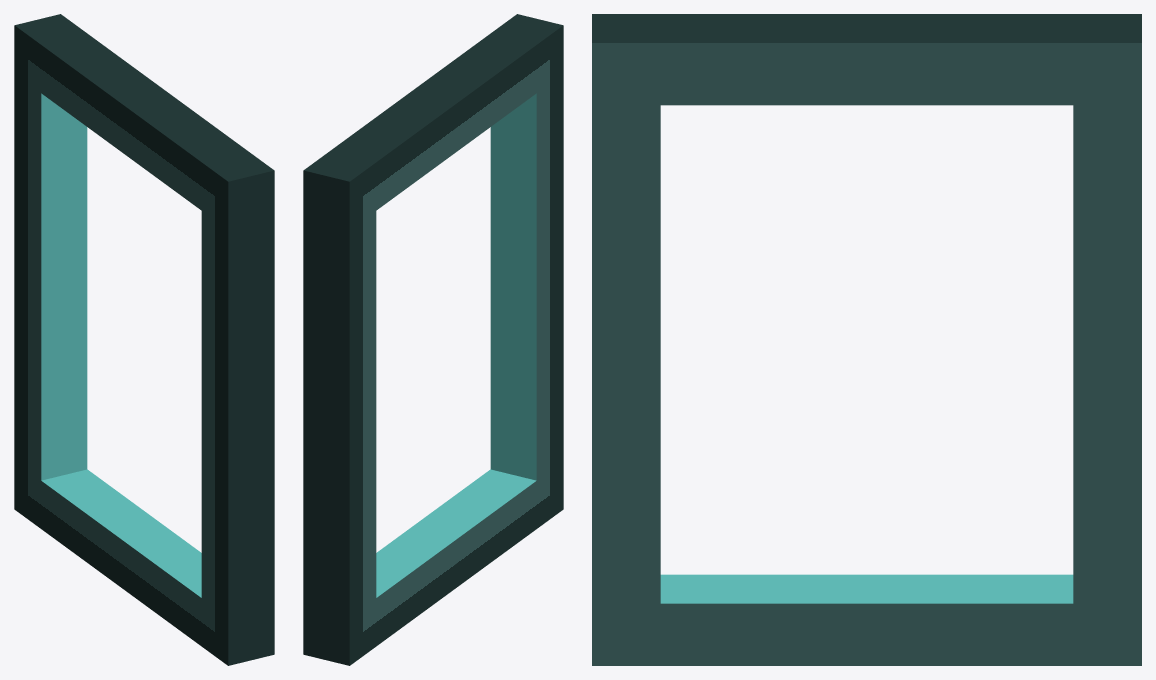
Rendered from Window.fbx.
3 renders of one model, left to right at view 1: azimuth 30°, elevation 25°; view 2: azimuth 150°, elevation 25°; view 3: azimuth 270°, elevation 25°, orthographic. The views are drawn at different scales.
Parts seen in each view (by area): view 1: cube_2, cube_3, cube_1, cube; view 2: cube_3, cube_2, cube_1, cube; view 3: cube_2, cube_3, cube, cube_1.
Boxes of the visible parts, box(x1,y1,x2,y2) form: cube_2: box(201, 151, 274, 665); cube_3: box(14, 14, 87, 528); cube_1: box(41, 33, 247, 210); cube: box(41, 469, 201, 646); cube_3: box(303, 151, 376, 665); cube_2: box(490, 14, 563, 528); cube_1: box(330, 33, 536, 210); cube: box(376, 469, 536, 646); cube_2: box(592, 14, 660, 665); cube_3: box(1073, 14, 1141, 665); cube: box(660, 574, 1073, 665); cube_1: box(660, 14, 1073, 105).
Bounding box in the file's own units: 6.25 × 62.5 × 50.
Materials: 1 (1 with a texture image).
